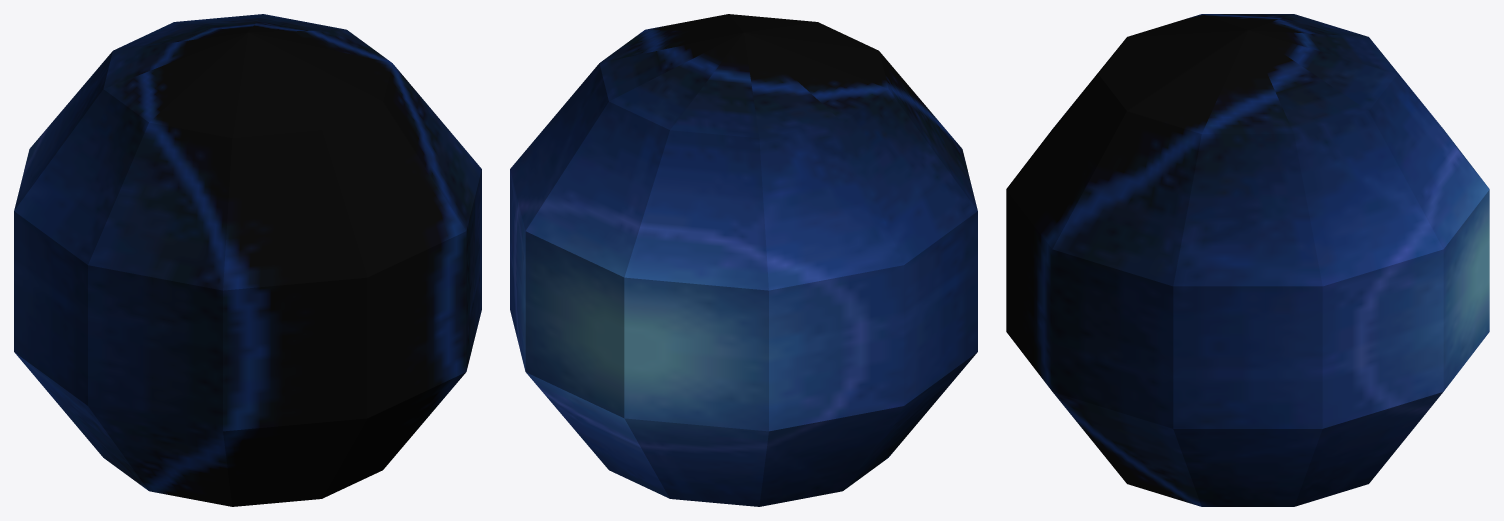
The model's file is common_lefthandshield_97540.obj.
The picture shows the model from 3 angles, left to right: view 1: azimuth 30°, elevation 25°; view 2: azimuth 150°, elevation 25°; view 3: azimuth 270°, elevation 25°; orthographic projection.
Visible parts, largest first — view 1: Sphere02; view 2: Sphere02; view 3: Sphere02.
Boxes of the visible parts, left/top/right/bottom form: Sphere02: left=14, top=14, right=481, bottom=506; Sphere02: left=510, top=14, right=977, bottom=506; Sphere02: left=1006, top=14, right=1489, bottom=506.
Size of the model in its own units: 4.61 by 5.1 by 4.85.
Materials: 2 (2 with a texture image).
